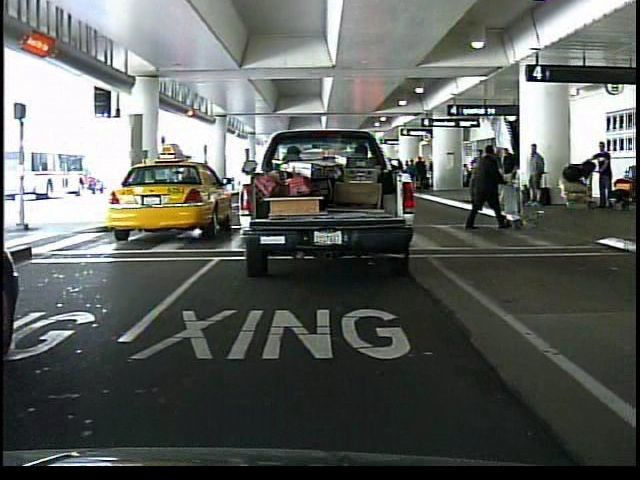person: (468, 144, 509, 235), (592, 139, 615, 211), (481, 146, 502, 221)
